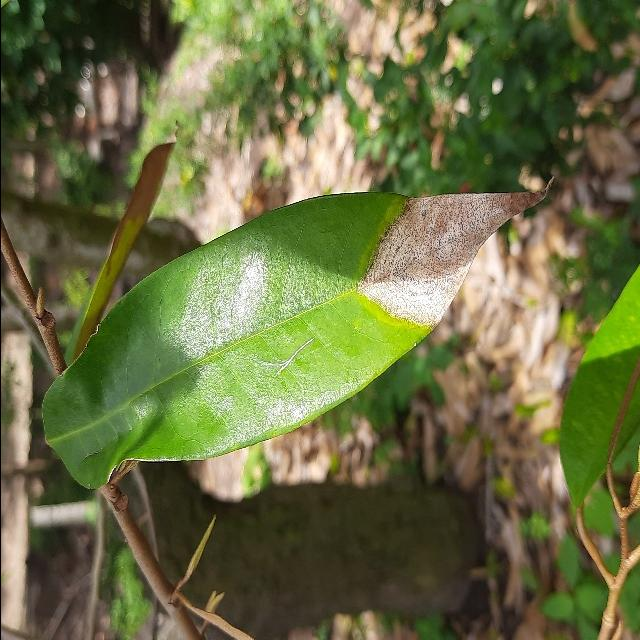Leaf Blight: (31, 183, 556, 503)
